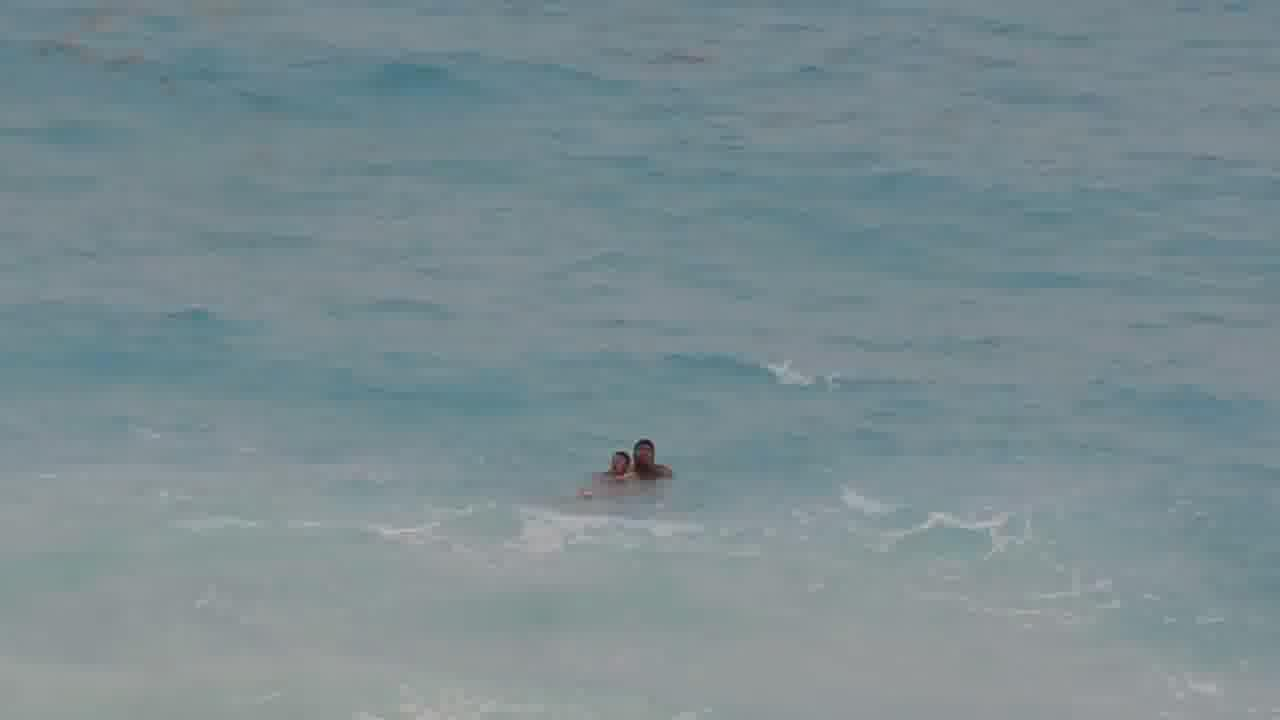human: (625, 429, 679, 484), (578, 445, 635, 497)
